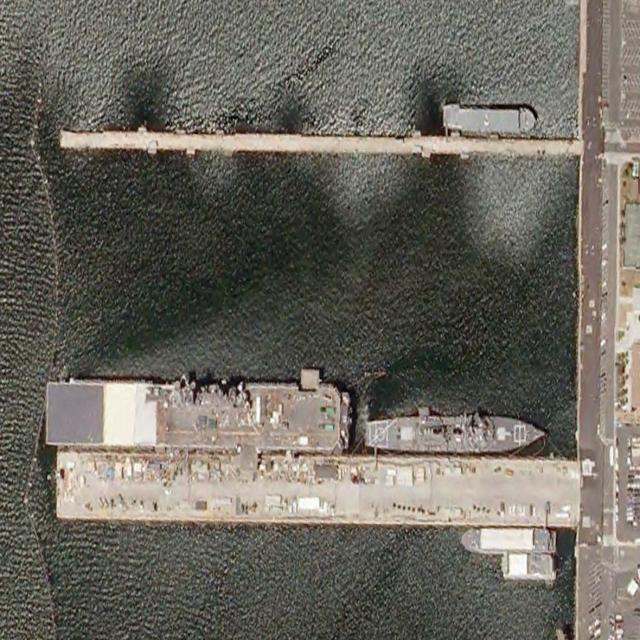Destroyer: (364, 413, 545, 453)
Landing: (44, 359, 351, 454)
Other Ship: (460, 526, 557, 555), (443, 104, 536, 132)
